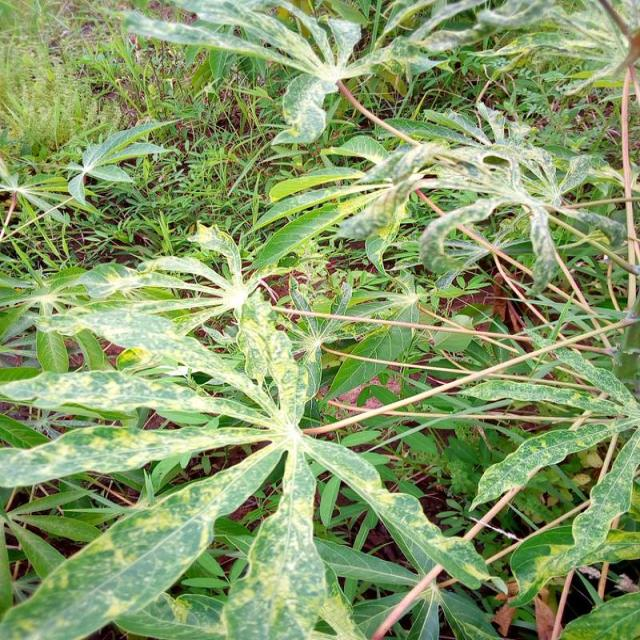cassava leaf: (1, 220, 494, 638), (0, 437, 286, 638)
